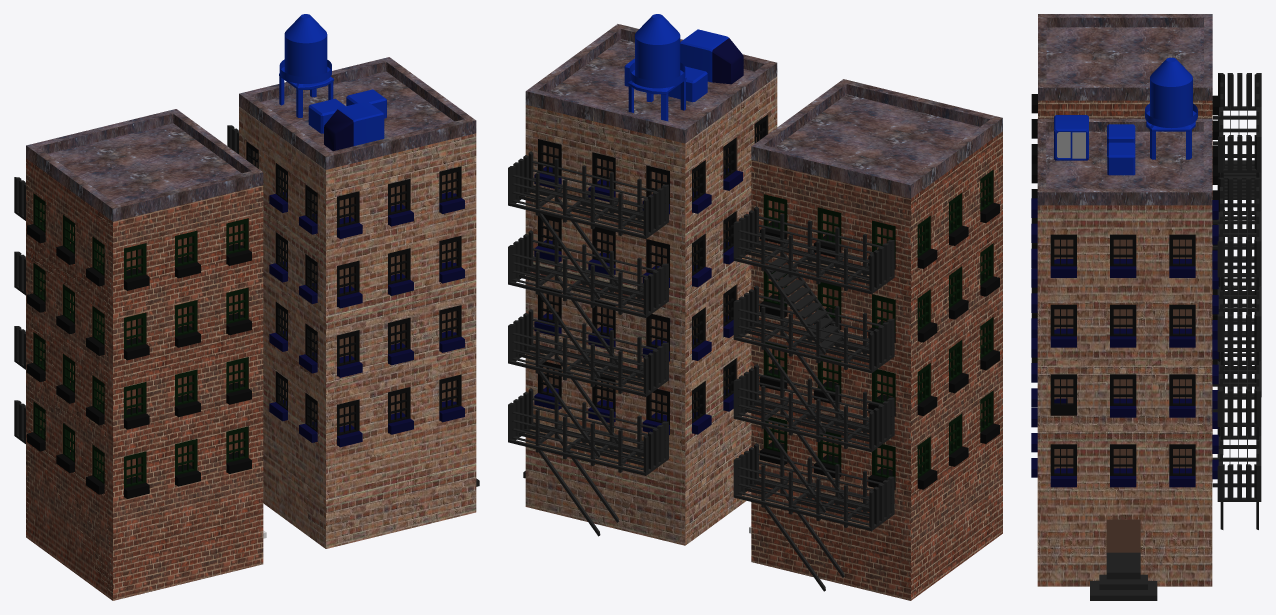
The model's file is edificio1.fbx.
3 renders of one model, left to right at view 1: azimuth 30°, elevation 25°; view 2: azimuth 150°, elevation 25°; view 3: azimuth 270°, elevation 25°, orthographic. The views are drawn at different scales.
Parts seen in each view (by area): view 1: building_4, building_3, Cube.011, pegangan.003; view 2: building_4, building_3, pegangan.003, Cube.011, tangga.003; view 3: building_4, building_3, pegangan.003, Cube.011, tangga.003.
Part boxes in pixels (box(x1,y1,x2,y2)): building_4: box(227, 14, 479, 548); building_3: box(26, 109, 263, 600); Cube.011: box(27, 193, 251, 498); pegangan.003: box(14, 177, 25, 443); building_4: box(508, 14, 777, 545); building_3: box(751, 79, 1002, 600); pegangan.003: box(733, 206, 894, 591); Cube.011: box(759, 170, 999, 490); tangga.003: box(763, 258, 843, 348); building_4: box(1031, 57, 1261, 600); building_3: box(1038, 14, 1212, 481); pegangan.003: box(1213, 73, 1261, 396); Cube.011: box(1031, 94, 1218, 364); tangga.003: box(1223, 160, 1256, 199).
Bounding box in the file's own units: 530 × 601 × 264.
10 materials, 3 textured.
